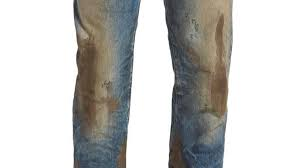earth: (75, 46, 98, 132), (211, 17, 228, 114), (77, 1, 101, 44), (201, 2, 229, 17), (171, 142, 181, 168), (103, 95, 117, 112), (188, 47, 202, 63), (120, 144, 125, 168)
